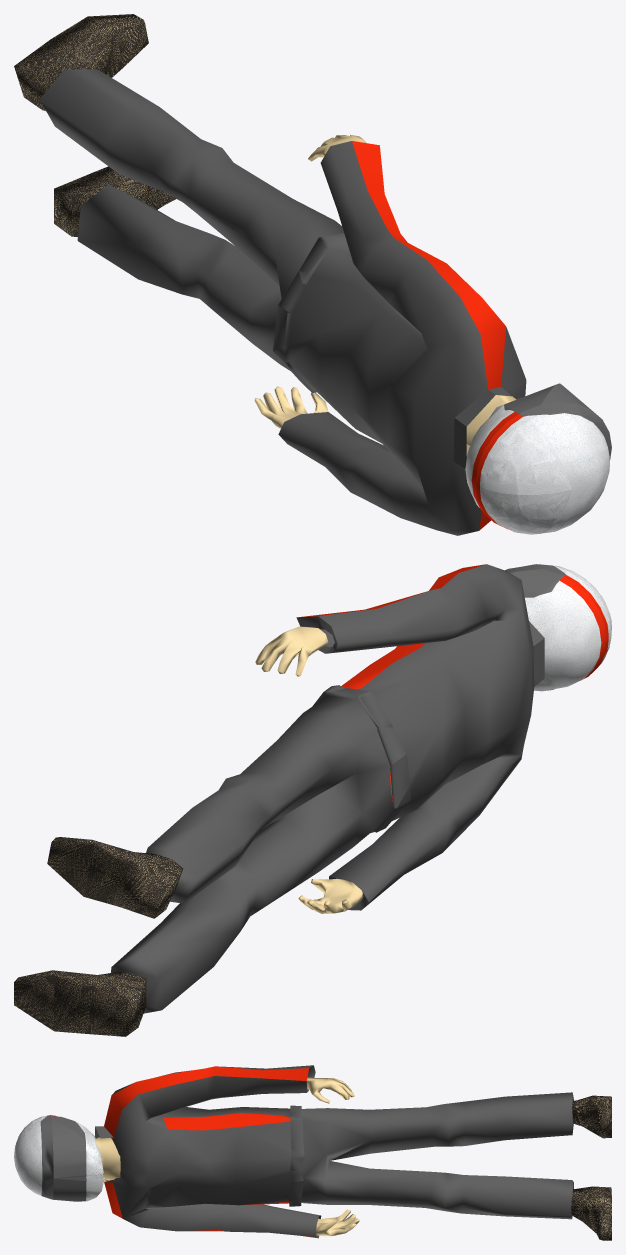
Rendered from rider.dae.
3 renders of one model, top to bottom at view 1: azimuth 30°, elevation 25°; view 2: azimuth 150°, elevation 25°; view 3: azimuth 270°, elevation 25°, orthographic. The views are drawn at different scales.
Visible parts, largest first — view 1: coords_ME_ID90_MA_material_5, coords_ME_ID4_MA_material, coords_ME_ID126_MA_material_6, coords_ME_ID132_MA_material_2, coords_ME_ID4_MA_material_0, coords_ME_ID110_MA_material_6, coords_ME_ID126_MA_material_7, coords_ME_ID42_MA_material_3, coords_ME_ID104_MA_material_1, coords_ME_ID188_MA_material_9, coords_ME_ID34_MA_material_2, coords_ME_ID110_MA_material_7 (+2 smaller); view 2: coords_ME_ID90_MA_material_5, coords_ME_ID110_MA_material_6, coords_ME_ID126_MA_material_6, coords_ME_ID14_MA_material, coords_ME_ID126_MA_material_7, coords_ME_ID110_MA_material_7, coords_ME_ID98_MA_material_1, coords_ME_ID104_MA_material_1, coords_ME_ID14_MA_material_0, coords_ME_ID42_MA_material_3, coords_ME_ID162_MA_material_2, coords_ME_ID34_MA_material_2 (+2 smaller); view 3: coords_ME_ID90_MA_material_5, coords_ME_ID132_MA_material_2, coords_ME_ID50_MA_material_4, coords_ME_ID110_MA_material_6, coords_ME_ID4_MA_material, coords_ME_ID162_MA_material_2, coords_ME_ID126_MA_material_6, coords_ME_ID42_MA_material_3, coords_ME_ID14_MA_material, coords_ME_ID120_MA_material_1, coords_ME_ID104_MA_material_1, coords_ME_ID98_MA_material_1 (+5 smaller).
Boxes of the visible parts, left/top/right/bottom form: coords_ME_ID90_MA_material_5: left=39, top=69, right=526, bottom=535; coords_ME_ID4_MA_material: left=480, top=413, right=609, bottom=534; coords_ME_ID126_MA_material_6: left=14, top=14, right=148, bottom=110; coords_ME_ID132_MA_material_2: left=352, top=141, right=506, bottom=389; coords_ME_ID4_MA_material_0: left=480, top=413, right=609, bottom=533; coords_ME_ID110_MA_material_6: left=54, top=166, right=175, bottom=236; coords_ME_ID126_MA_material_7: left=16, top=15, right=147, bottom=110; coords_ME_ID42_MA_material_3: left=504, top=385, right=611, bottom=460; coords_ME_ID104_MA_material_1: left=254, top=386, right=328, bottom=428; coords_ME_ID188_MA_material_9: left=453, top=387, right=511, bottom=469; coords_ME_ID34_MA_material_2: left=471, top=412, right=522, bottom=529; coords_ME_ID110_MA_material_7: left=54, top=167, right=174, bottom=235; coords_ME_ID90_MA_material_5: left=111, top=564, right=534, bottom=1013; coords_ME_ID110_MA_material_6: left=14, top=970, right=145, bottom=1036; coords_ME_ID126_MA_material_6: left=47, top=837, right=181, bottom=918; coords_ME_ID14_MA_material: left=525, top=581, right=601, bottom=691; coords_ME_ID126_MA_material_7: left=48, top=837, right=180, bottom=918; coords_ME_ID110_MA_material_7: left=14, top=971, right=145, bottom=1035; coords_ME_ID98_MA_material_1: left=255, top=626, right=328, bottom=676; coords_ME_ID104_MA_material_1: left=298, top=878, right=363, bottom=913; coords_ME_ID14_MA_material_0: left=525, top=582, right=600, bottom=690; coords_ME_ID42_MA_material_3: left=510, top=564, right=565, bottom=690; coords_ME_ID162_MA_material_2: left=341, top=643, right=425, bottom=689; coords_ME_ID34_MA_material_2: left=559, top=575, right=608, bottom=680; coords_ME_ID90_MA_material_5: left=105, top=1065, right=573, bottom=1238; coords_ME_ID132_MA_material_2: left=104, top=1066, right=309, bottom=1139; coords_ME_ID50_MA_material_4: left=51, top=1120, right=86, bottom=1201; coords_ME_ID110_MA_material_6: left=571, top=1186, right=611, bottom=1240; coords_ME_ID4_MA_material: left=14, top=1116, right=46, bottom=1195; coords_ME_ID162_MA_material_2: left=163, top=1113, right=290, bottom=1130; coords_ME_ID126_MA_material_6: left=572, top=1095, right=611, bottom=1138; coords_ME_ID42_MA_material_3: left=40, top=1116, right=85, bottom=1199; coords_ME_ID14_MA_material: left=56, top=1116, right=103, bottom=1201; coords_ME_ID120_MA_material_1: left=94, top=1137, right=120, bottom=1181; coords_ME_ID104_MA_material_1: left=316, top=1209, right=359, bottom=1236; coords_ME_ID98_MA_material_1: left=306, top=1077, right=354, bottom=1103.
Bounding box in the file's own units: 3.74 × 6.32 × 18.96.
